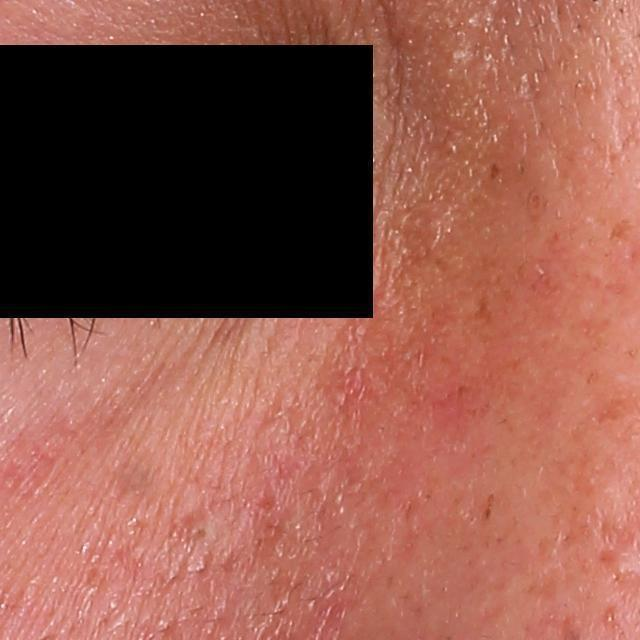comedo: (194, 520, 210, 543)
